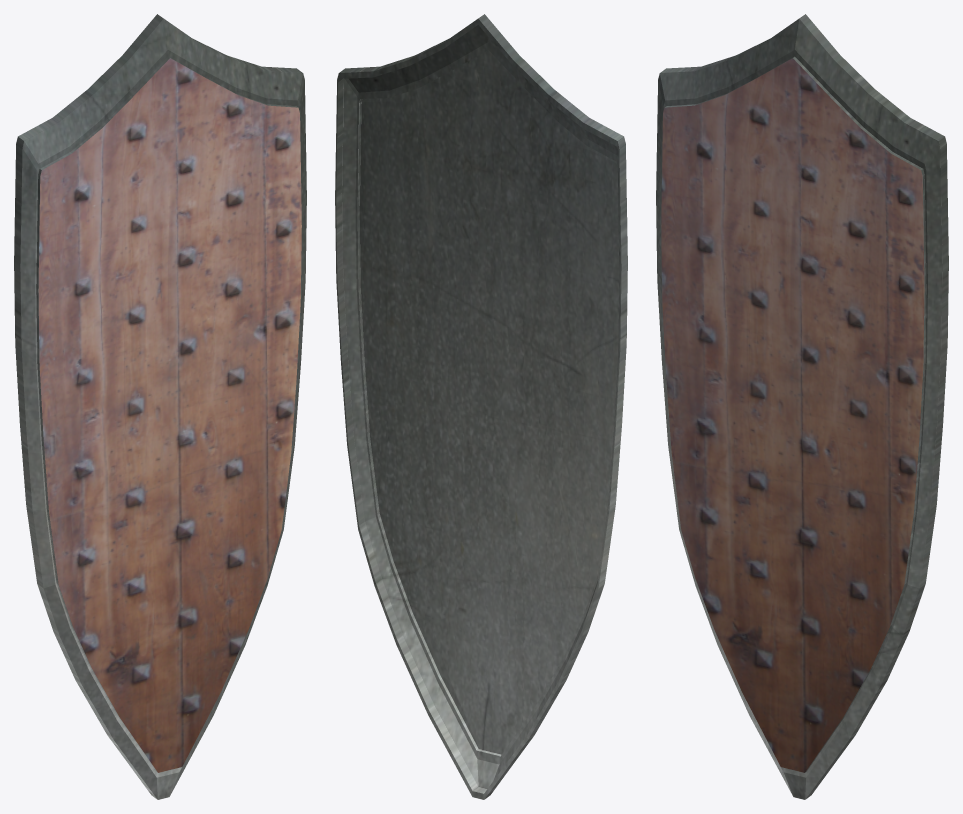
Rendered from shield.fbx.
3 renders of one model, left to right at view 1: azimuth 30°, elevation 25°; view 2: azimuth 150°, elevation 25°; view 3: azimuth 330°, elevation 25°, orthographic.
Visible parts, largest first — view 1: Dagger Display Plaque; view 2: Dagger Display Plaque; view 3: Dagger Display Plaque.
Boxes of the visible parts, <box> form: Dagger Display Plaque: <box>14,14,306,799</box>; Dagger Display Plaque: <box>335,14,627,799</box>; Dagger Display Plaque: <box>656,14,948,799</box>.
Bounding box in the file's own units: 3.88 × 10.09 × 0.3016.
